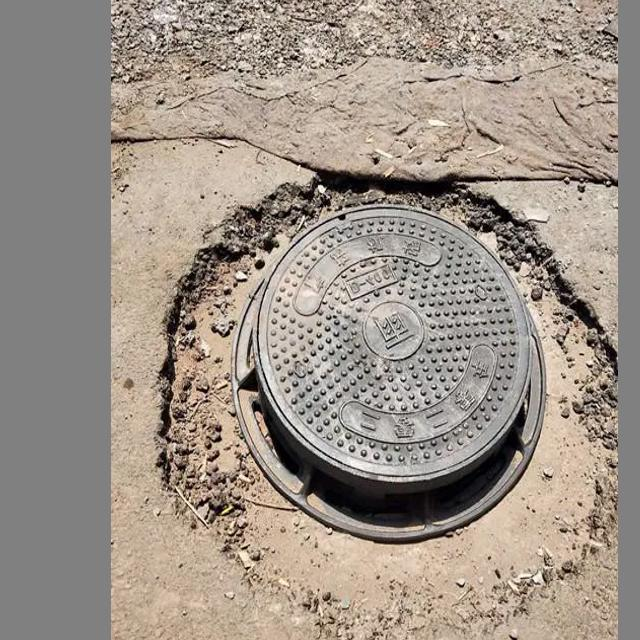circle: (162, 175, 609, 639)
